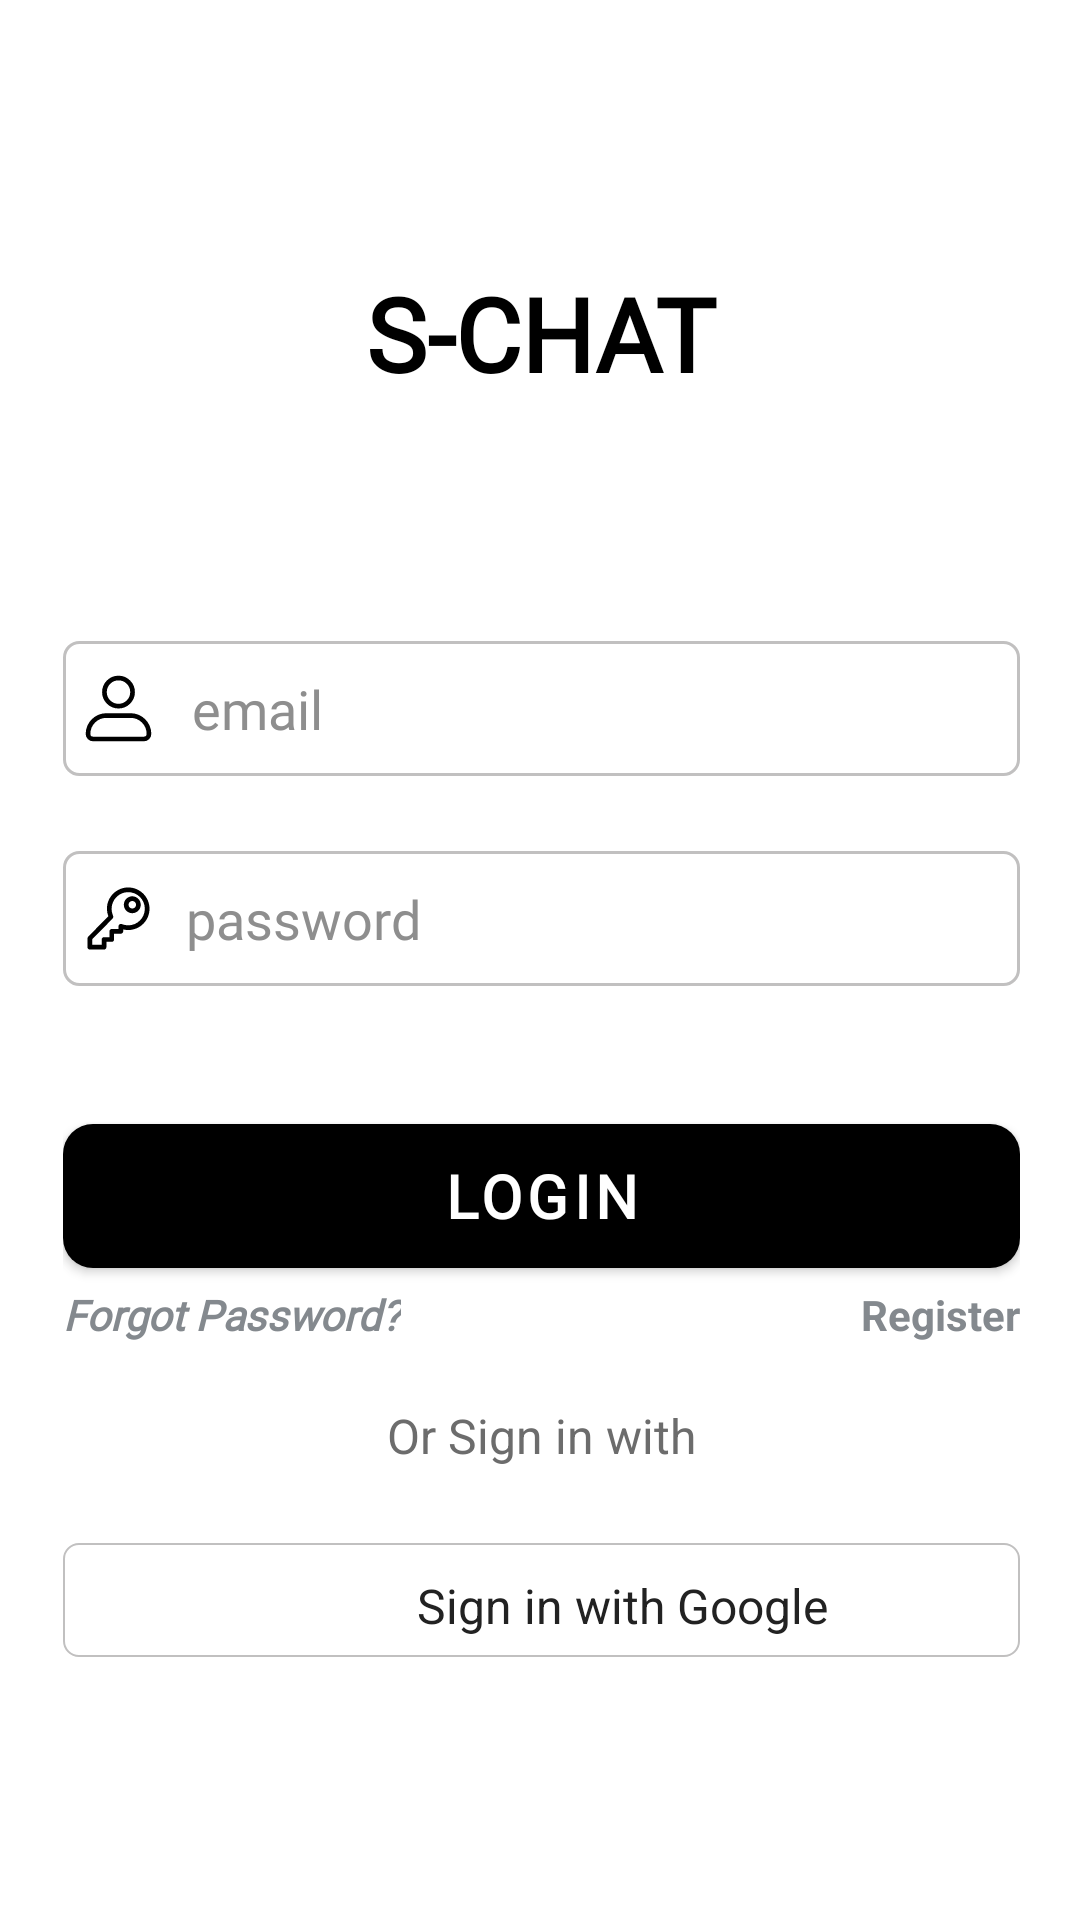

Where icons sit on this 1080 × 1920 app screen, as bbox=[x1, y1, x2, y2]:
key: bbox=[87, 887, 150, 950]
user: bbox=[85, 675, 152, 742]
